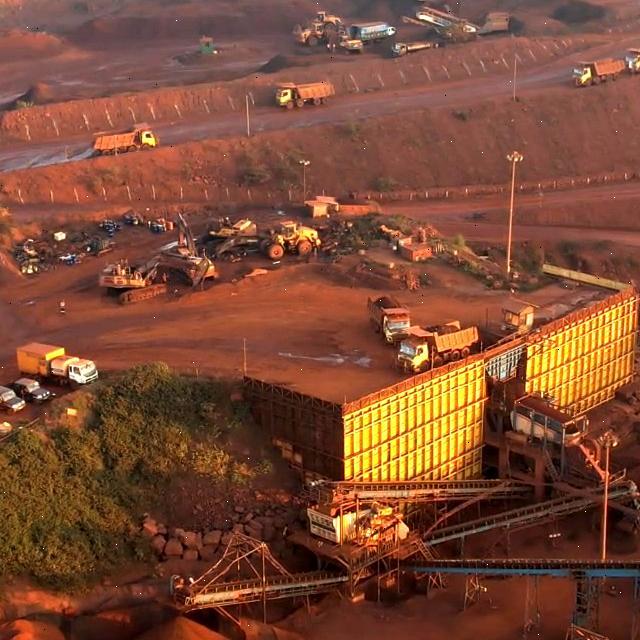Dumper truck: (396, 322, 457, 370), (269, 78, 338, 109), (374, 296, 408, 339), (97, 128, 154, 151)
Excavator: (98, 249, 169, 306), (261, 219, 317, 259)
